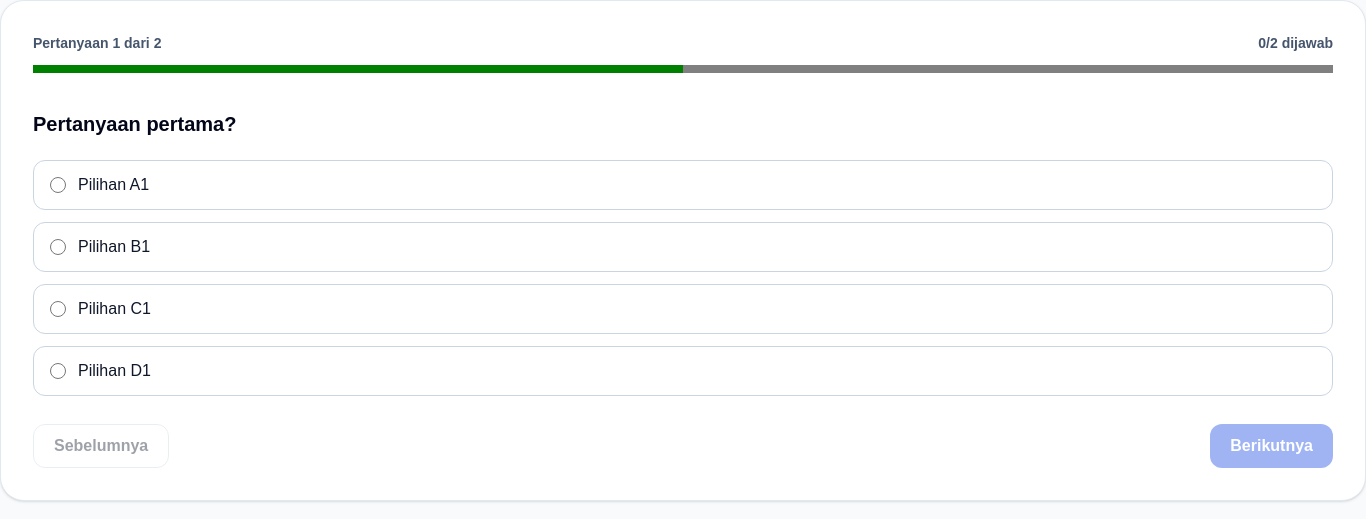
Test: QuizRunner › retains answers through next and previous navigation
The image size is (1366, 519).
Click the radio button labelled "Pilihan A1".
click(58, 185)  # box [50,177,66,193]
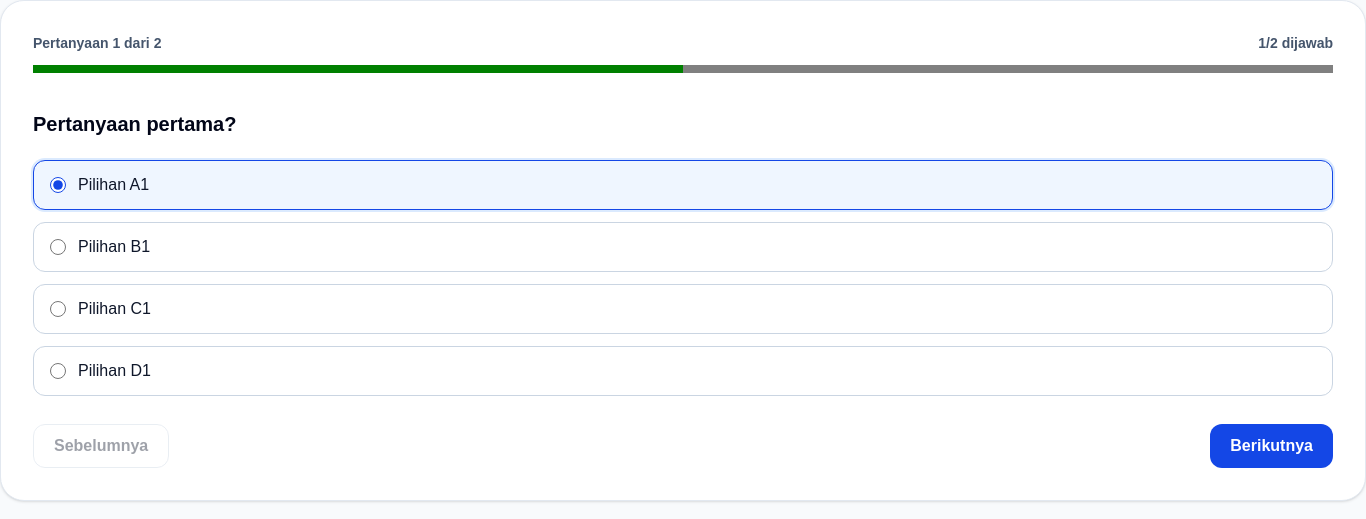
Click the button "Berikutnya".
click(1272, 446)  # box [1210,424,1333,468]
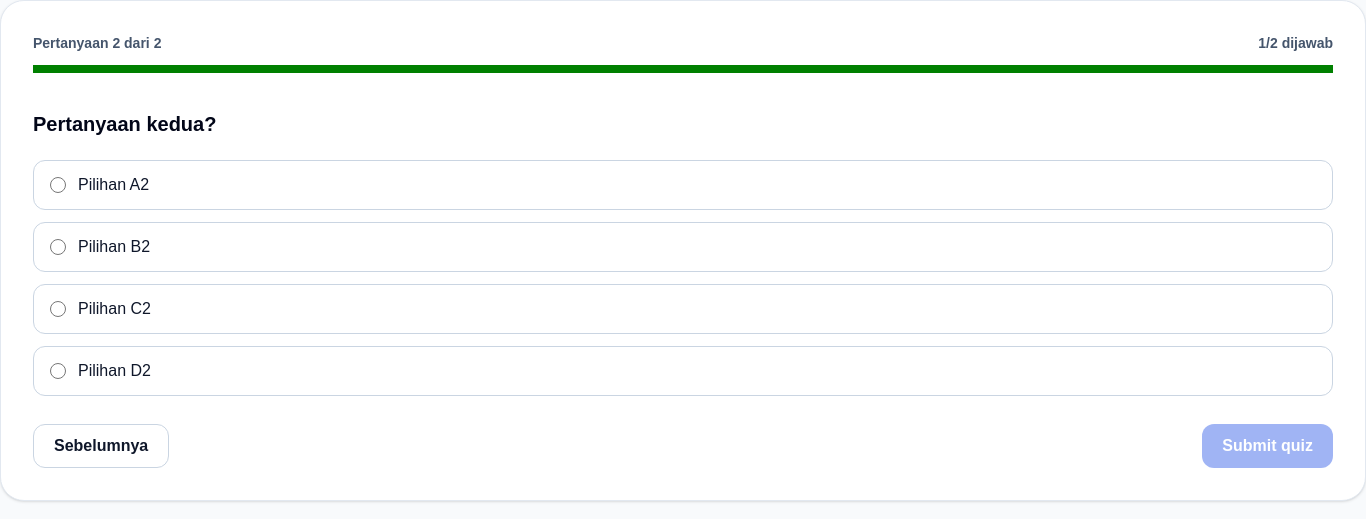
Click the button "Sebelumnya".
click(101, 446)  # box [33,424,169,468]
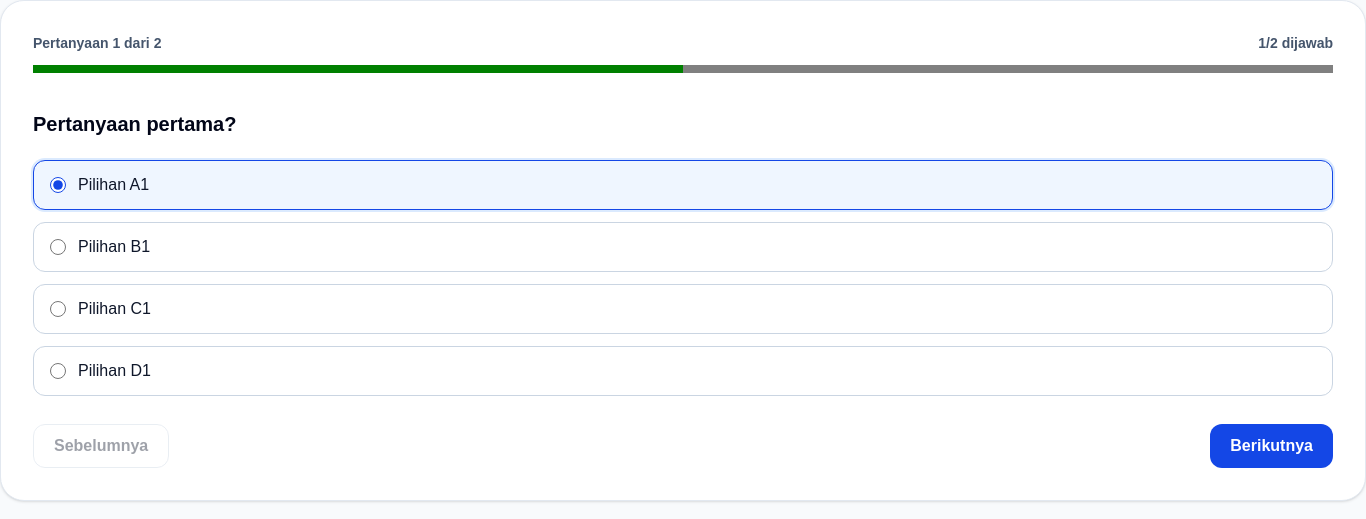
Check: the radio button labelled "Pilihan A1" is checked, box [50,177,66,193]
